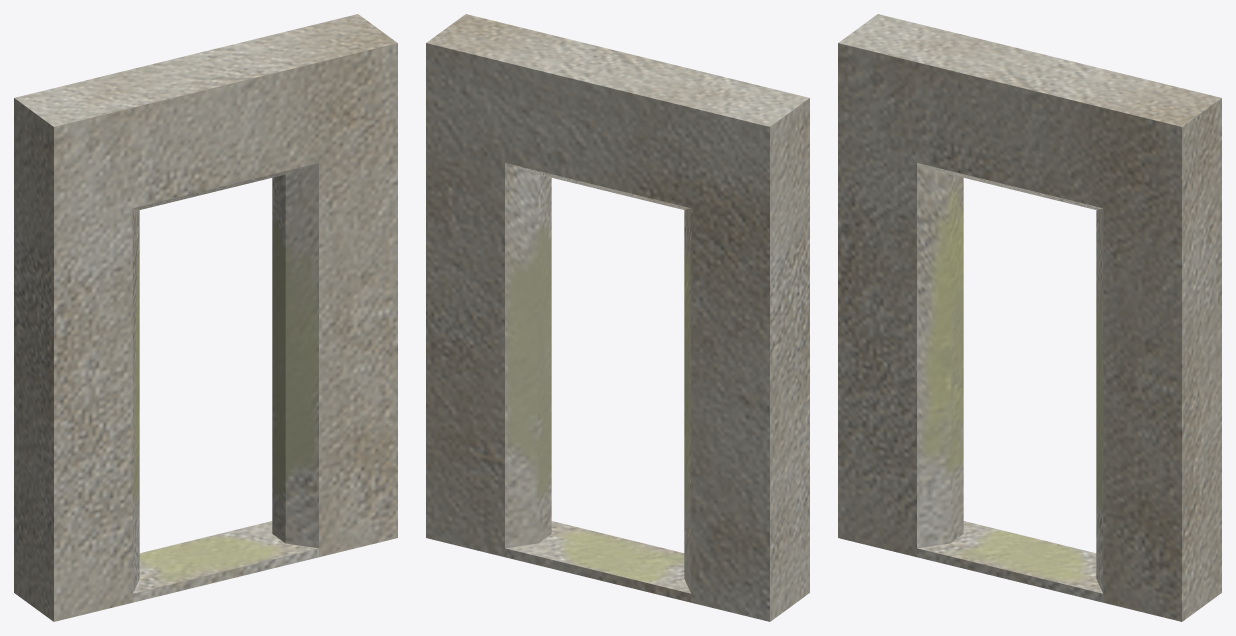
File: DoorSingle.fbx
The picture shows the model from 3 angles, left to right: view 1: azimuth 30°, elevation 25°; view 2: azimuth 150°, elevation 25°; view 3: azimuth 330°, elevation 25°; orthographic projection.
Visible parts, largest first — view 1: Door_2m75; view 2: Door_2m75; view 3: Door_2m75.
Part boxes in pixels (x1=…): Door_2m75: x1=14, y1=14, x2=397, y2=621; Door_2m75: x1=426, y1=14, x2=809, y2=621; Door_2m75: x1=838, y1=14, x2=1221, y2=621.
Bounding box in the file's own units: 200 × 275 × 40.
1 material, 1 textured.
